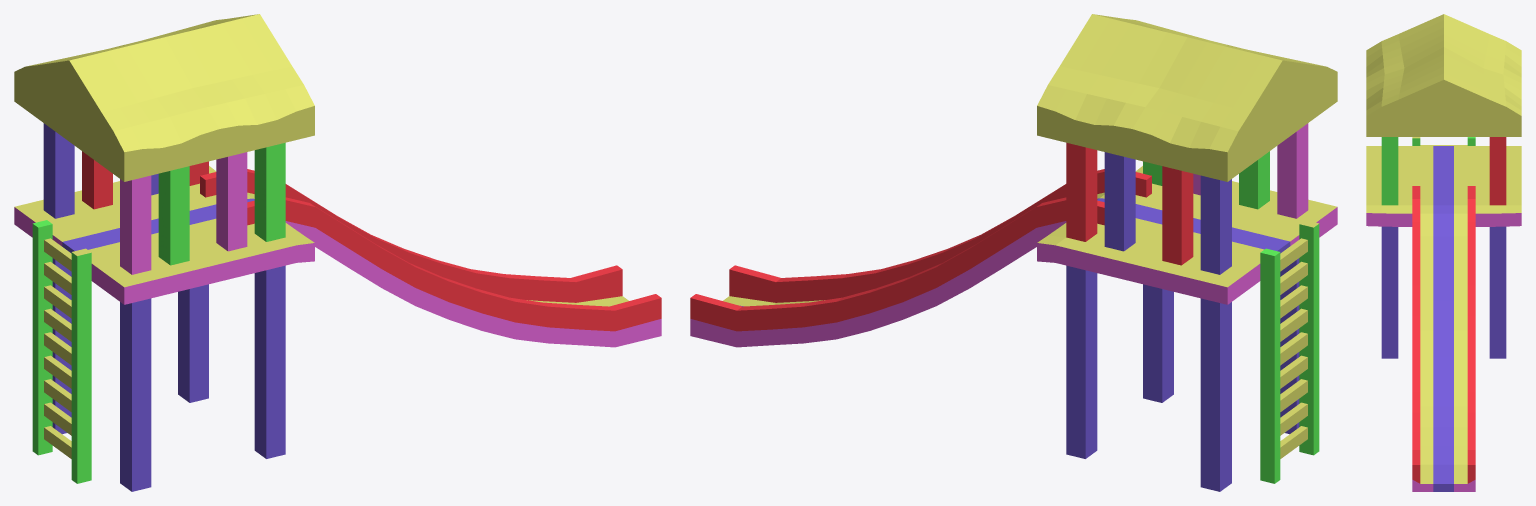
File: escorrega.fbx
3 renders of one model, left to right at view 1: azimuth 30°, elevation 25°; view 2: azimuth 150°, elevation 25°; view 3: azimuth 270°, elevation 25°, orthographic. The views are drawn at different scales.
Parts seen in each view (by area): view 1: Cube; view 2: Cube; view 3: Cube.
Part boxes in pixels (x1,y1,x2,y2): Cube: (14, 14, 661, 491); Cube: (690, 14, 1337, 491); Cube: (1366, 14, 1521, 491).
Bounding box in the file's own units: 2.61 × 1.72 × 0.8509.
